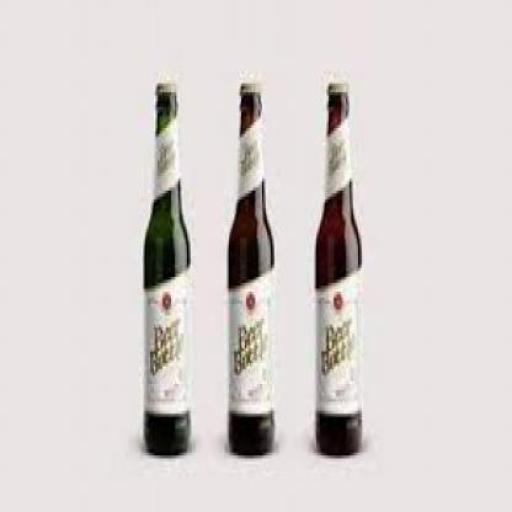glass: (312, 92, 362, 456), (226, 92, 274, 456), (141, 92, 189, 453)
metal: (238, 78, 257, 88), (154, 78, 173, 88), (327, 78, 344, 88)
